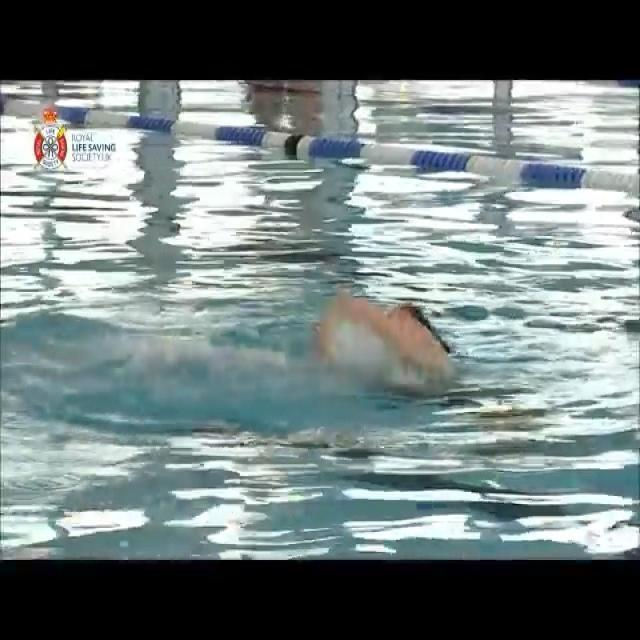Drowning: (296, 288, 460, 405)
